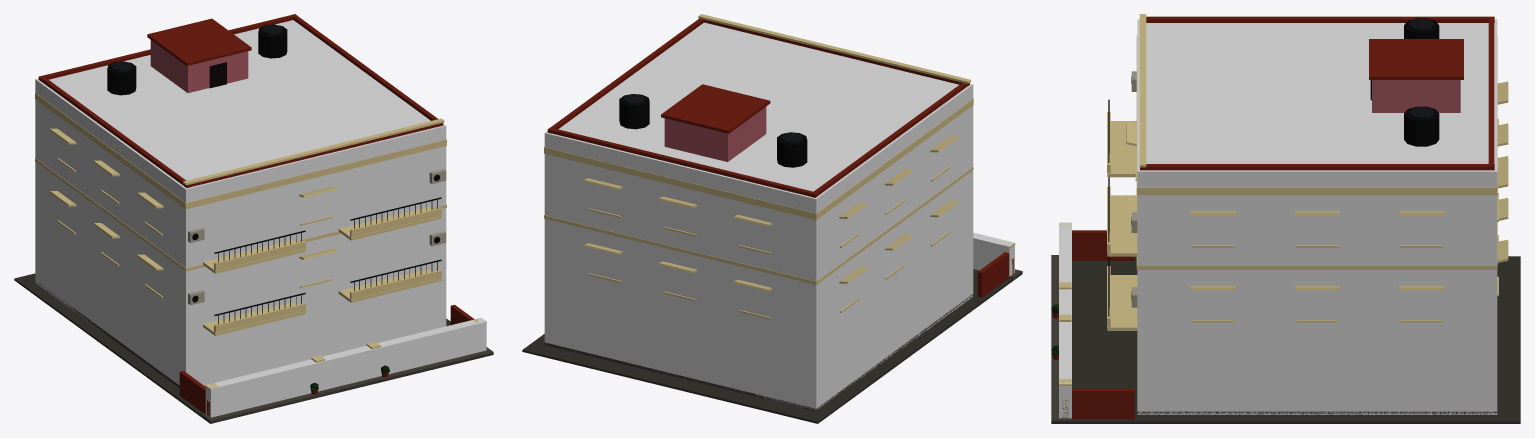
File: B06_apt_lowrise.glb
The picture shows the model from 3 angles, left to right: view 1: azimuth 30°, elevation 25°; view 2: azimuth 150°, elevation 25°; view 3: azimuth 270°, elevation 25°; orthographic projection. The views are drawn at different scales.
Parts seen in each view (by area): view 1: COL_Main, LOD0, COL_Compound; view 2: COL_Main, LOD0, COL_Compound; view 3: COL_Main, LOD0, COL_Compound.
Part boxes in pixels (bbox=[...]): COL_Main: bbox=[35, 20, 446, 385]; LOD0: bbox=[14, 14, 493, 423]; COL_Compound: bbox=[205, 318, 486, 417]; COL_Main: bbox=[544, 22, 973, 410]; LOD0: bbox=[522, 14, 1022, 423]; COL_Compound: bbox=[973, 232, 1014, 276]; COL_Main: bbox=[1137, 19, 1497, 414]; LOD0: bbox=[1051, 14, 1520, 423]; COL_Compound: bbox=[1059, 223, 1071, 418].
Size of what is drawn, in the model's own units: 15 by 11.99 by 18.
